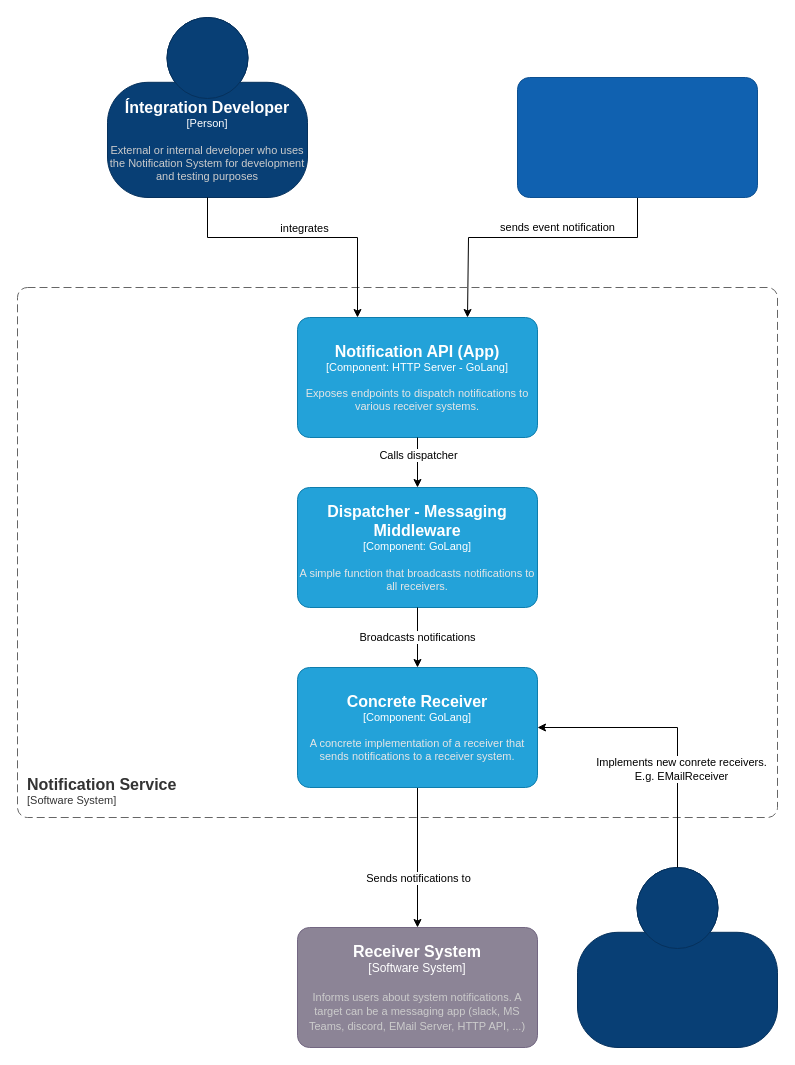
This 795x1065 diagram has some shape labels left out. Here are the shapes that lost their labels. From the top down, the centre of each, then its label:
the point at 637,137: Sender Service [Software System] Internal or external system
the point at 677,957: Internal Developer [Person]
